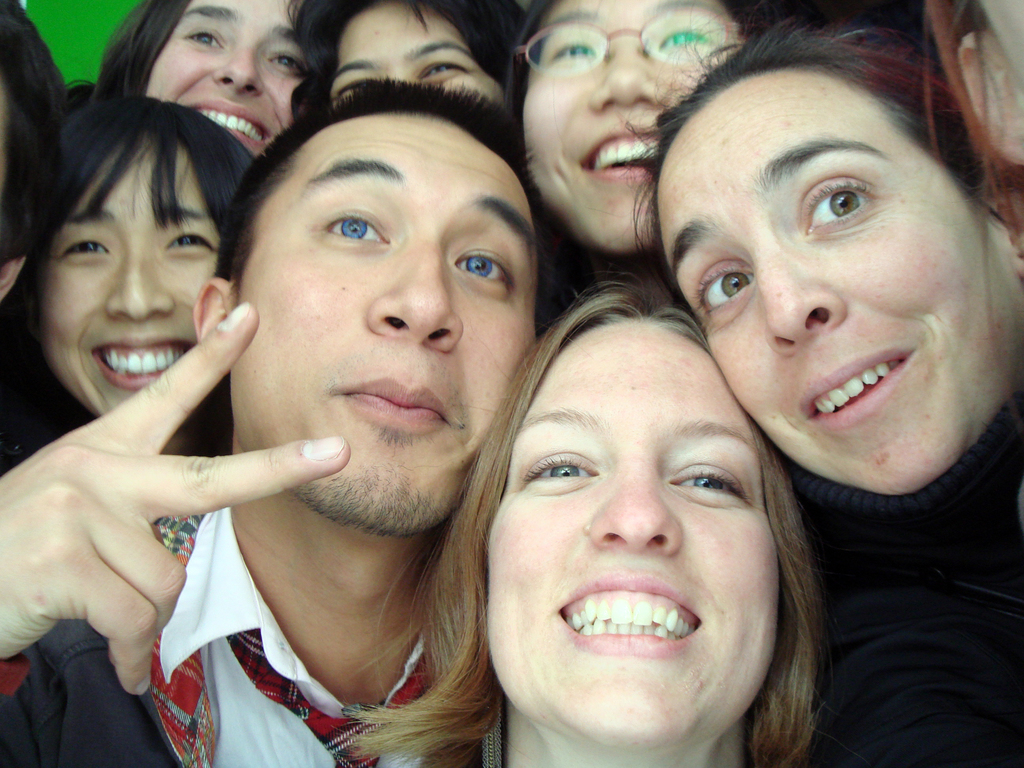Human_hand: (0, 301, 351, 695)
